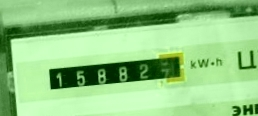1: (54, 70, 64, 87)
2: (137, 61, 149, 79)
5: (74, 68, 86, 85)
7: (160, 66, 170, 78)
8: (116, 64, 128, 82), (95, 67, 107, 84)
screen: (40, 46, 192, 99)
